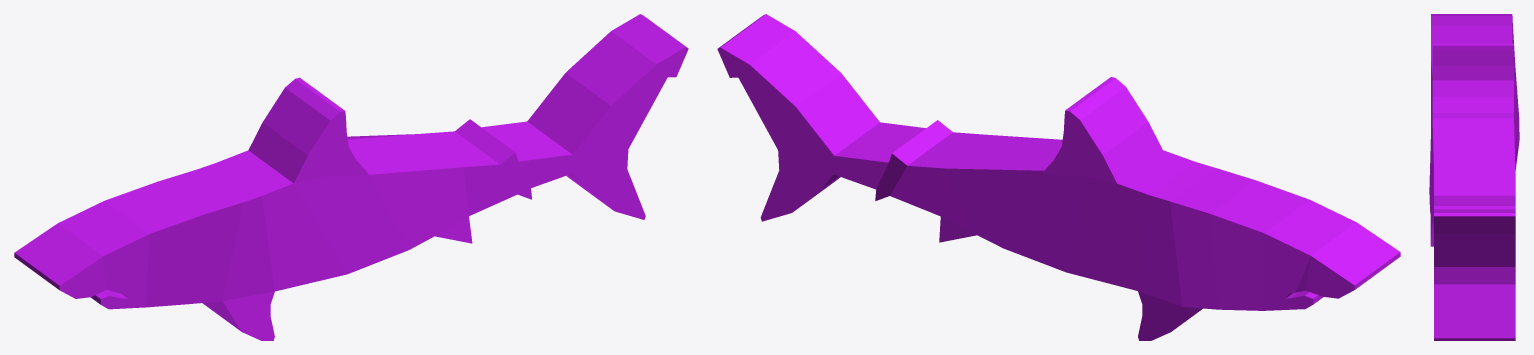
The model's file is shark.glb.
3 renders of one model, left to right at view 1: azimuth 30°, elevation 25°; view 2: azimuth 150°, elevation 25°; view 3: azimuth 270°, elevation 25°, orthographic. The views are drawn at different scales.
Parts seen in each view (by area): view 1: shark; view 2: shark; view 3: shark.
Boxes of the visible parts, left/top/right/bottom form: shark: left=14, top=14, right=688, bottom=340; shark: left=717, top=14, right=1400, bottom=340; shark: left=1429, top=14, right=1519, bottom=340.
Bounding box in the file's own units: 4.52 × 1.45 × 0.6245.
